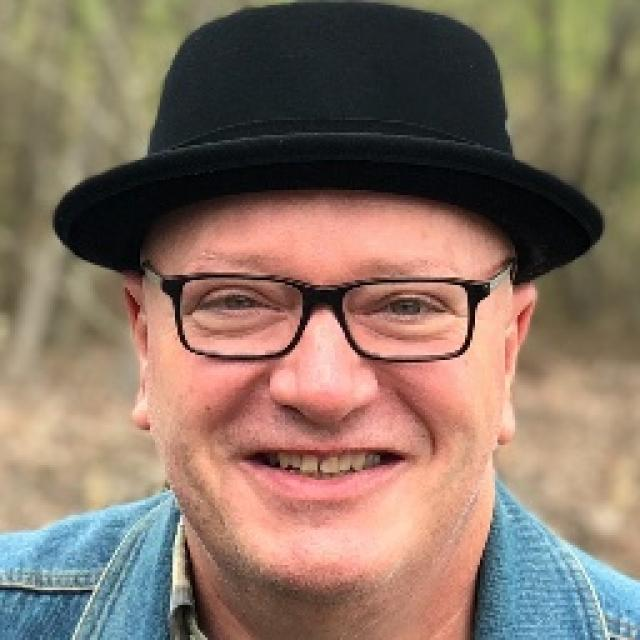earlobe: (494, 403, 520, 449), (130, 408, 153, 432)
eye: (199, 290, 275, 322), (370, 297, 447, 324)
nose: (277, 402, 377, 442)
wholeear: (498, 282, 538, 448), (120, 274, 154, 435)
